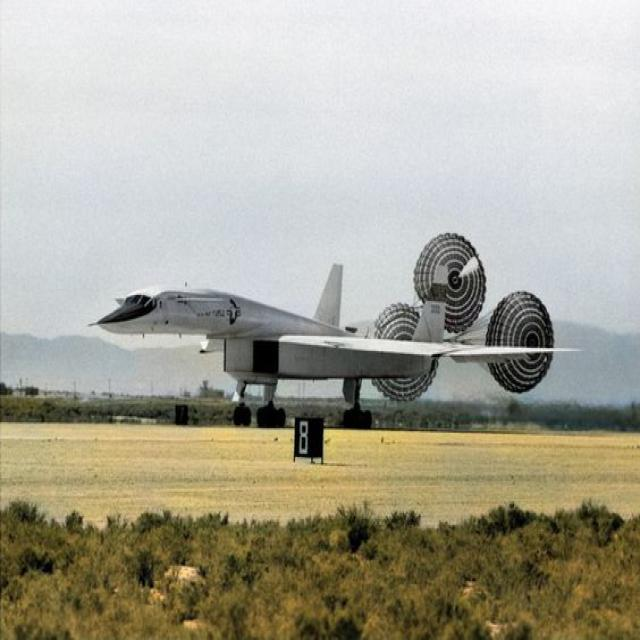MIL_Plane: (85, 262, 586, 429)
